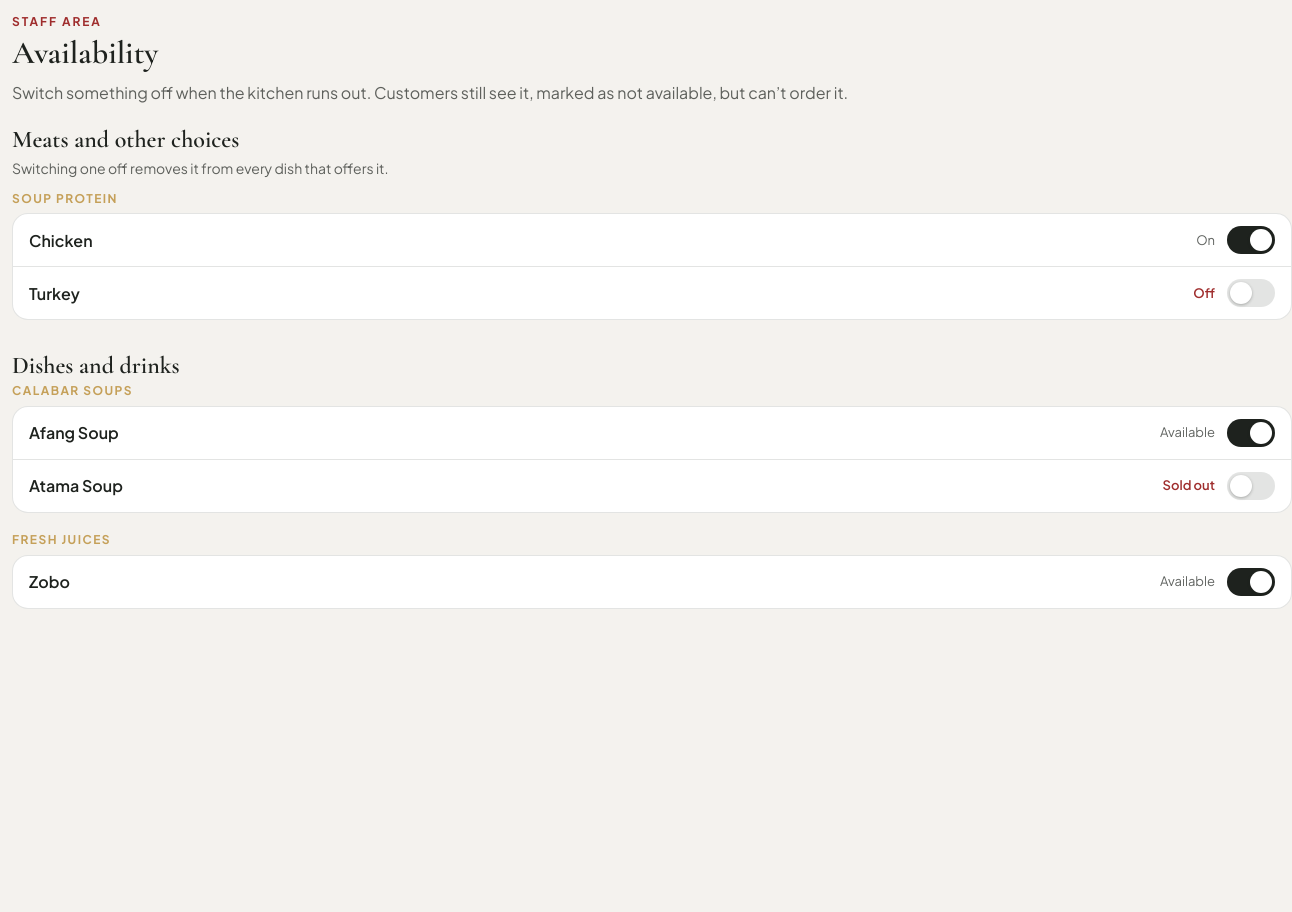
Test: AdminAvailabilityView › keeps the old state and explains a refused change on that row
Click the switch named "Afang Soup available": (1251, 433) x1=1227 y1=419 x2=1275 y2=447
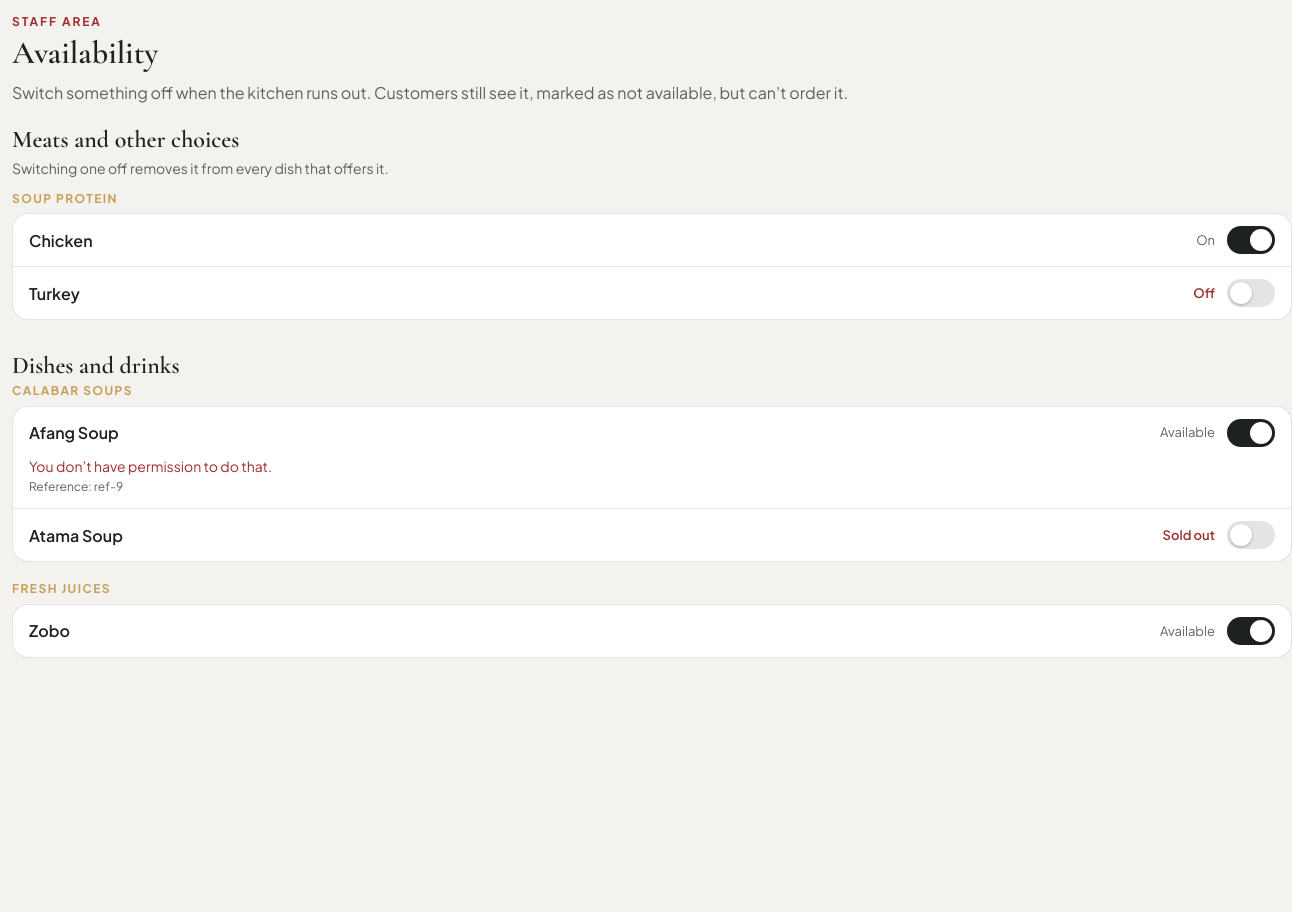
Expected: the message "You don’t have permission to do that. Reference: ref-9" is shown, x1=29 y1=457 x2=272 y2=494
